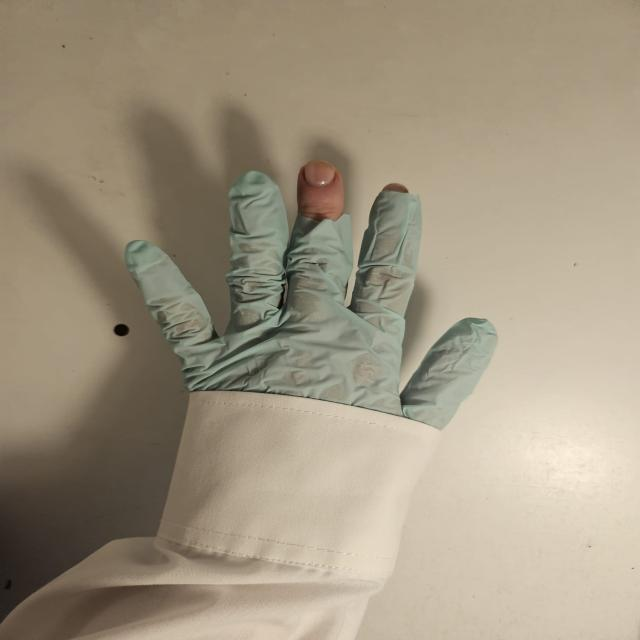gloves_damaged: (126, 153, 504, 434)
